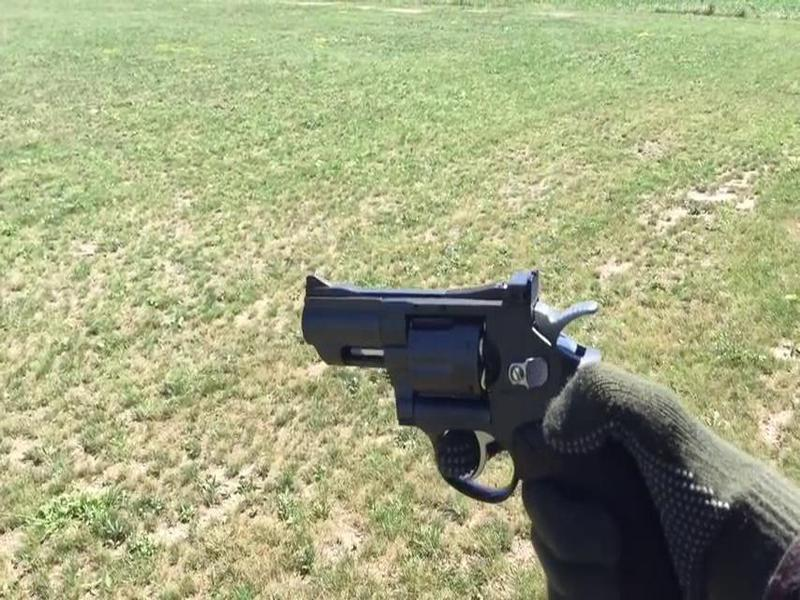Revolver: (284, 263, 653, 520)
